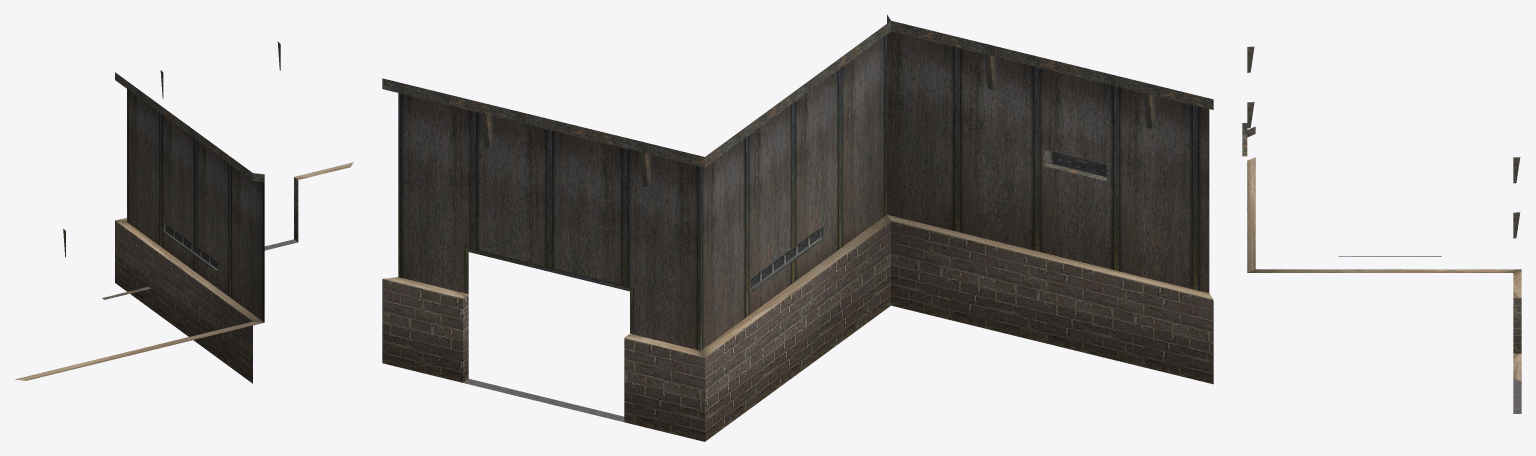
The model's file is M11Z2_SCUDHouse01_B3.glb.
3 views of the same model, side by side, from view 1: azimuth 30°, elevation 25°; view 2: azimuth 150°, elevation 25°; view 3: azimuth 270°, elevation 25° (orthographic). The views are drawn at different scales.
Parts seen in each view (by area): view 1: M11Z2_SCUDHOUSE01_B3; view 2: M11Z2_SCUDHOUSE01_B3; view 3: M11Z2_SCUDHOUSE01_B3.
Boxes of the visible parts, x1=… form: M11Z2_SCUDHOUSE01_B3: x1=15, y1=41, x2=353, y2=383; M11Z2_SCUDHOUSE01_B3: x1=382, y1=14, x2=1213, y2=441; M11Z2_SCUDHOUSE01_B3: x1=1242, y1=46, x2=1521, y2=413.
Bounding box in the file's own units: 32 × 13.51 × 16.8.
6 materials, 6 textured.
